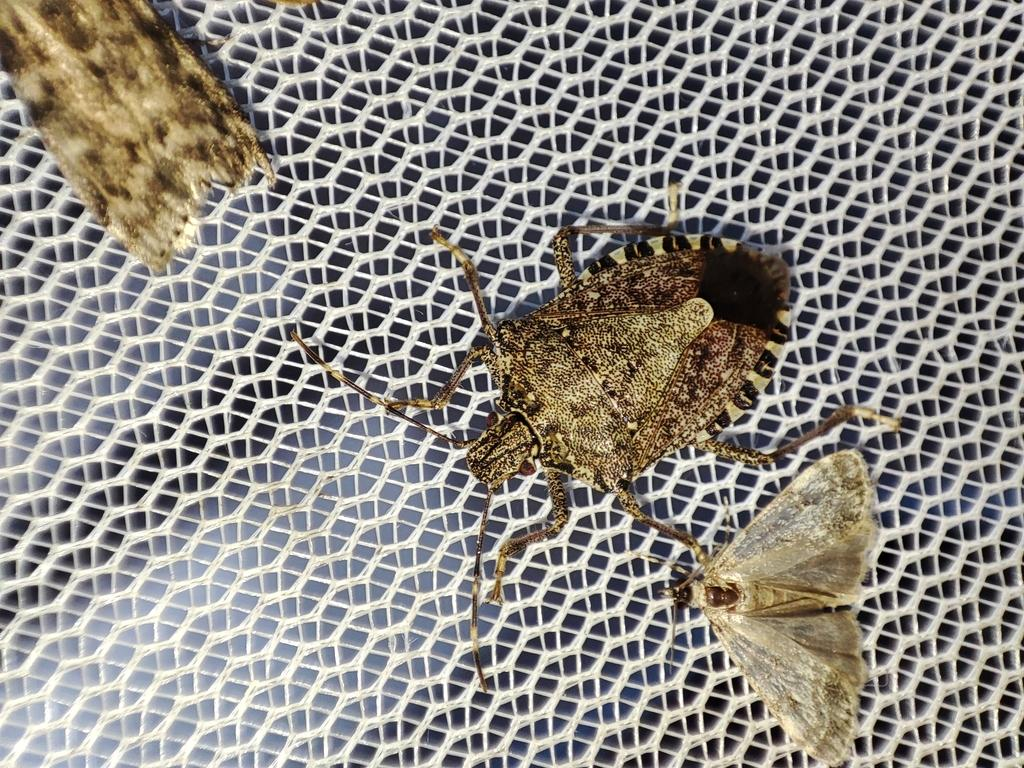stink_bugs: (230, 151, 964, 715)
